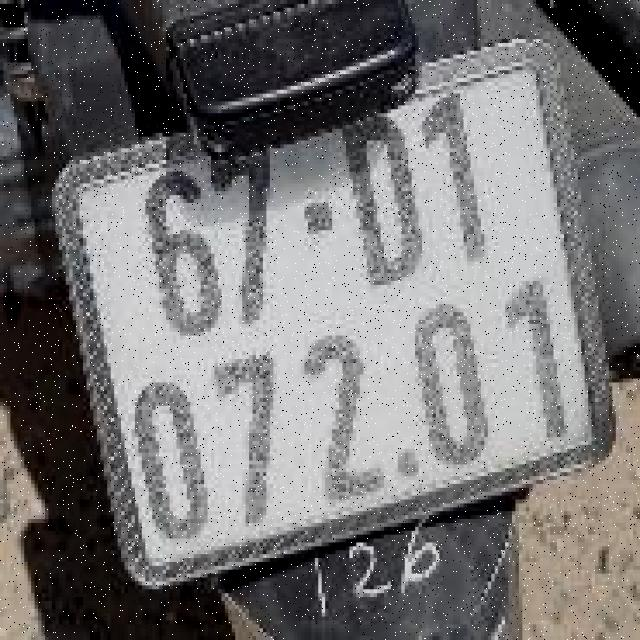0: (125, 378, 211, 538), (410, 298, 489, 462)
1: (426, 90, 502, 269), (503, 267, 576, 451)
2: (296, 328, 392, 503)
6: (132, 154, 236, 353)
7: (208, 339, 299, 537), (199, 135, 285, 341)
D: (339, 109, 426, 293)
